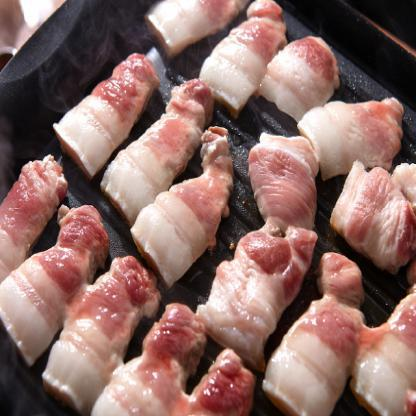pork: (102, 271, 199, 415), (142, 126, 235, 276), (63, 234, 136, 408), (12, 206, 93, 362), (115, 56, 196, 206), (298, 246, 368, 415), (219, 220, 302, 356), (56, 54, 149, 166), (336, 164, 416, 280), (0, 152, 69, 276), (303, 100, 407, 176), (250, 130, 316, 240), (206, 0, 272, 110), (264, 27, 340, 119), (366, 282, 416, 415), (181, 331, 250, 415), (146, 0, 244, 47)
